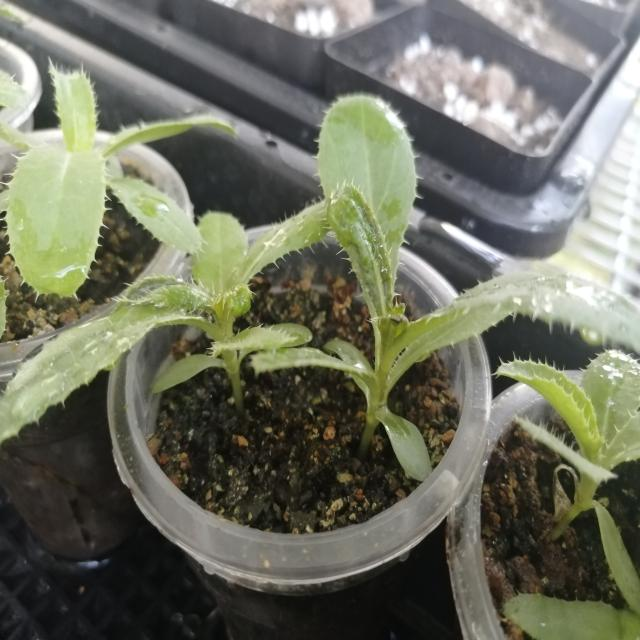field_thistle: (304, 93, 628, 512), (24, 58, 328, 444)
